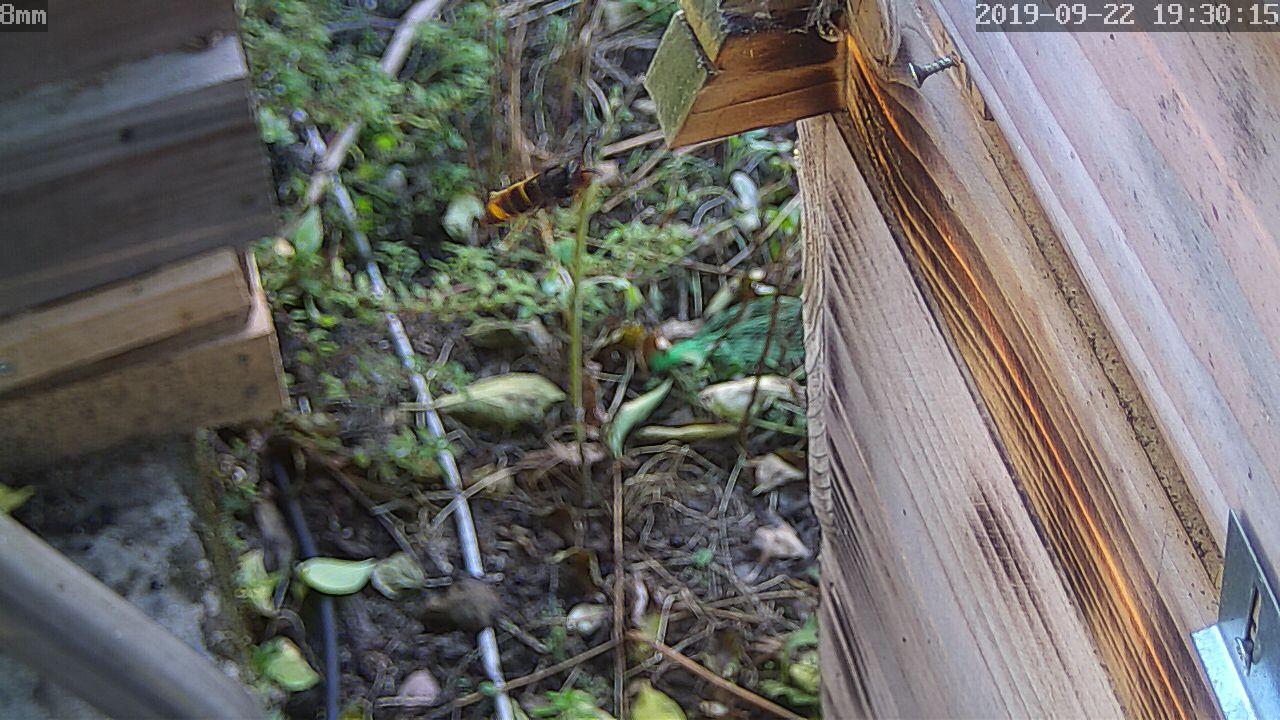hornet: (476, 149, 601, 243)
